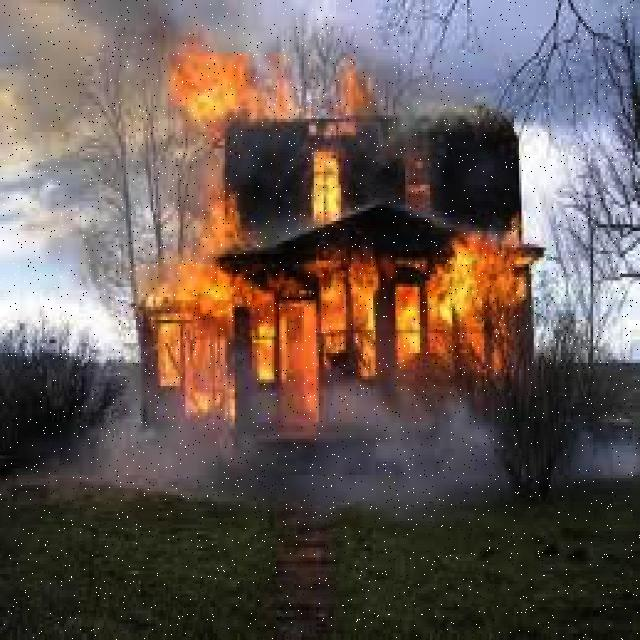fire: (164, 228, 510, 417), (169, 46, 289, 142)
smoke: (128, 422, 506, 504)
